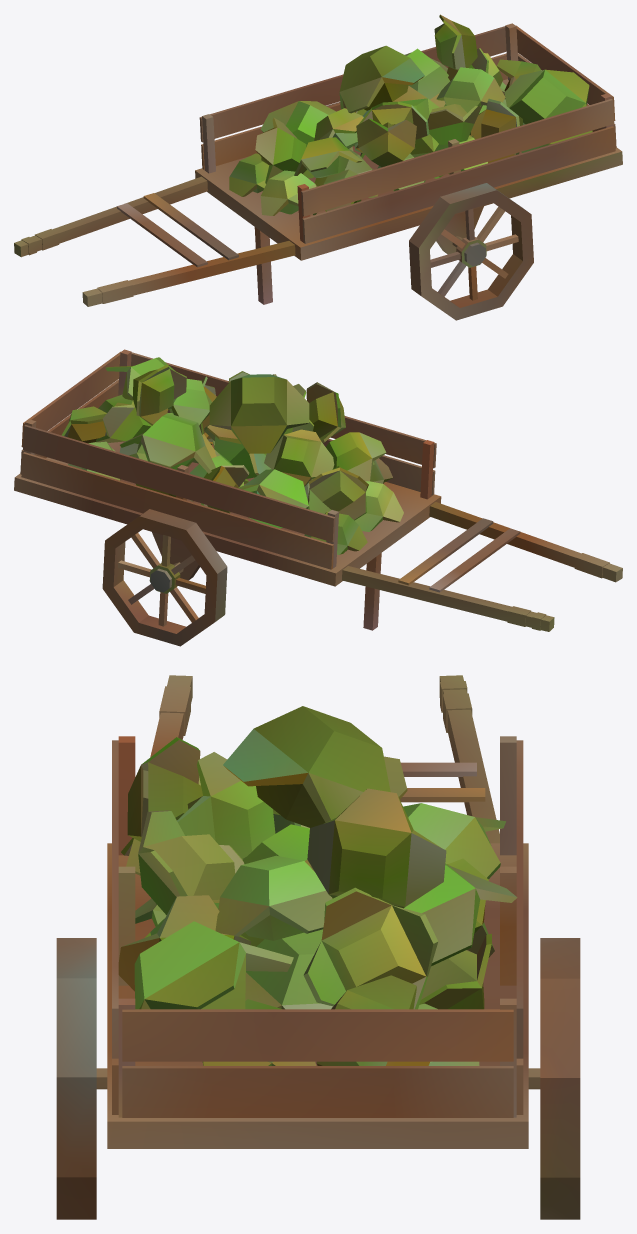
Rendered from charrette-pleine.glb.
3 renders of one model, top to bottom at view 1: azimuth 30°, elevation 25°; view 2: azimuth 150°, elevation 25°; view 3: azimuth 270°, elevation 25°, orthographic. The views are drawn at different scales.
Parts seen in each view (by area): view 1: Cube.033_Mat_1_0; view 2: Cube.033_Mat_1_0; view 3: Cube.033_Mat_1_0.
Part boxes in pixels (x1,y1,x2,y2): Cube.033_Mat_1_0: (14, 14, 622, 320); Cube.033_Mat_1_0: (14, 349, 622, 646); Cube.033_Mat_1_0: (56, 675, 580, 1219).
Bounding box in the file's own units: 322 × 135 × 141.
Materials: 1 (1 with a texture image).
